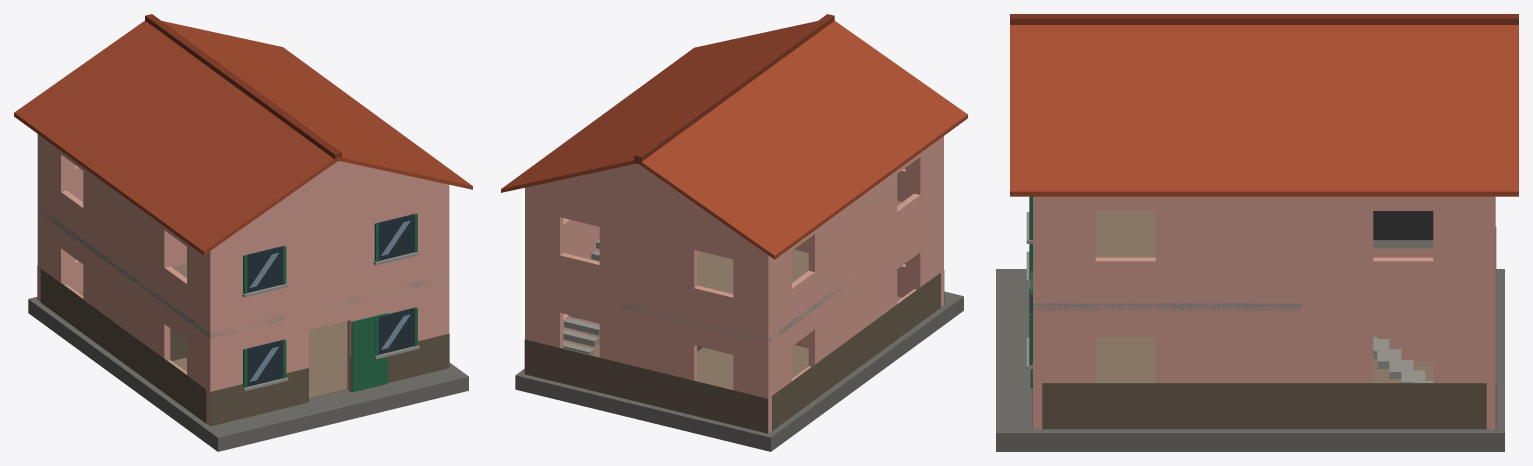
Rendered from sobrado_b.glb.
The picture shows the model from 3 angles, left to right: view 1: azimuth 30°, elevation 25°; view 2: azimuth 150°, elevation 25°; view 3: azimuth 270°, elevation 25°; orthographic projection. The views are drawn at different scales.
Parts seen in each view (by area): view 1: sobrado_b; view 2: sobrado_b; view 3: sobrado_b.
Boxes of the visible parts, left/top/right/bottom form: sobrado_b: left=14, top=14, right=472, bottom=451; sobrado_b: left=501, top=14, right=967, bottom=451; sobrado_b: left=996, top=14, right=1518, bottom=451.
Size of the model in its own units: 9 by 8.43 by 11.3.
